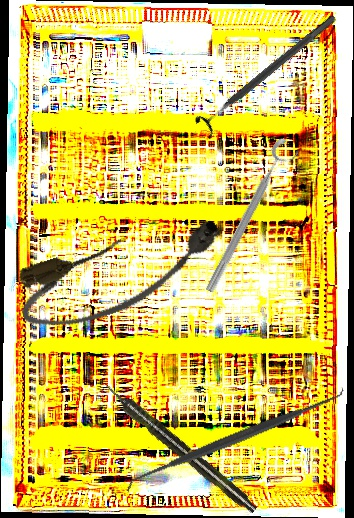Cannula: (9, 206, 234, 341)
Fixation Ring: (192, 7, 344, 140), (201, 135, 303, 300)
Handpiece: (100, 379, 261, 517)
Spatula Surgical: (119, 382, 351, 496)
